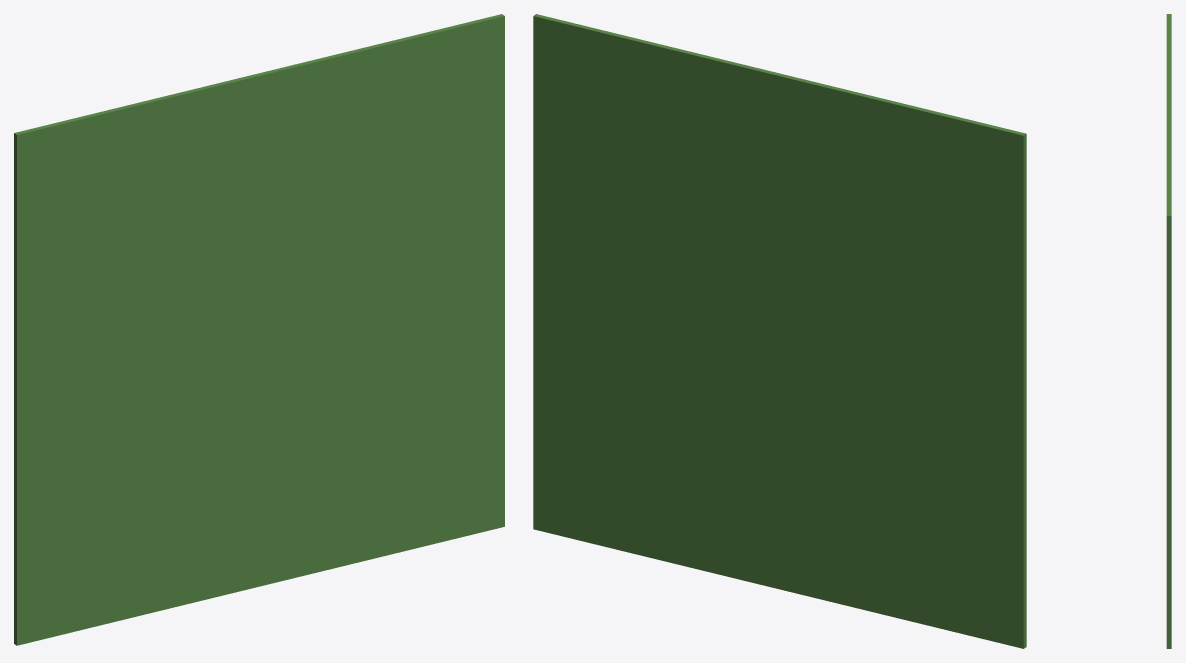
The model's file is grass_sparse.glb.
3 renders of one model, left to right at view 1: azimuth 30°, elevation 25°; view 2: azimuth 150°, elevation 25°; view 3: azimuth 270°, elevation 25°, orthographic. The views are drawn at different scales.
Parts seen in each view (by area): view 1: geometry_0; view 2: geometry_0; view 3: geometry_0.
Part boxes in pixels (x1,y1,x2,y2): geometry_0: (14, 14, 504, 645); geometry_0: (533, 14, 1026, 648); geometry_0: (1166, 14, 1171, 648).
Size of the model in its own units: 1 by 1 by 0.2051.
